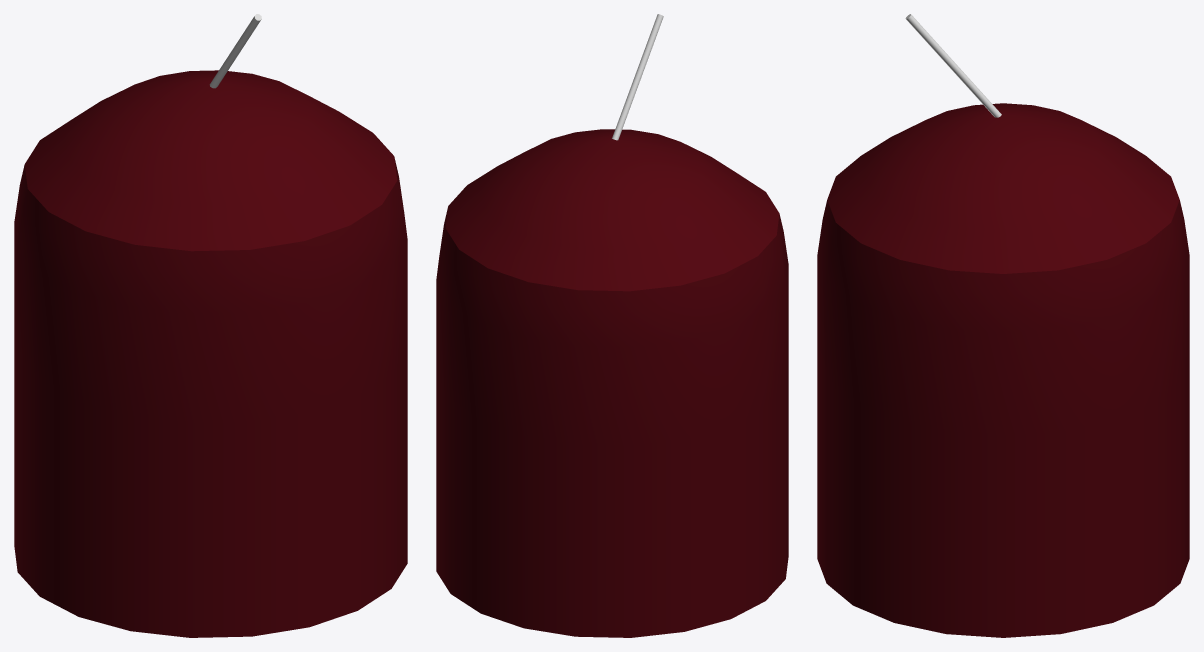
Rendered from Candle.FBX.
The picture shows the model from 3 angles, left to right: view 1: azimuth 30°, elevation 25°; view 2: azimuth 150°, elevation 25°; view 3: azimuth 270°, elevation 25°; orthographic projection. The views are drawn at different scales.
Visible parts, largest first — view 1: Cylinder001, Cylinder002; view 2: Cylinder001, Cylinder002; view 3: Cylinder001, Cylinder002.
Boxes of the visible parts, bbox=[...] form: Cylinder001: bbox=[14, 70, 407, 637]; Cylinder002: bbox=[209, 14, 261, 88]; Cylinder001: bbox=[436, 129, 788, 637]; Cylinder002: bbox=[612, 14, 663, 140]; Cylinder001: bbox=[817, 103, 1189, 637]; Cylinder002: bbox=[905, 14, 1001, 117].
Size of the model in its own units: 50 by 80.59 by 50.
